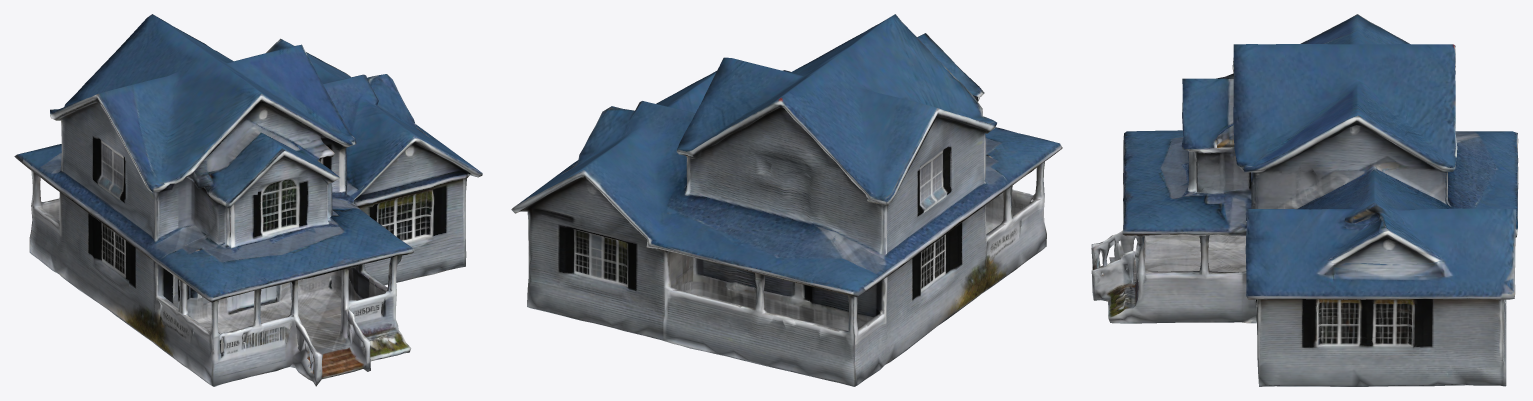
Rendered from house 1.glb.
3 renders of one model, left to right at view 1: azimuth 30°, elevation 25°; view 2: azimuth 150°, elevation 25°; view 3: azimuth 270°, elevation 25°, orthographic. The views are drawn at different scales.
Parts seen in each view (by area): view 1: Mesh_0; view 2: Mesh_0; view 3: Mesh_0.
Part boxes in pixels (box(x1,y1,x2,y2)): Mesh_0: box(14, 14, 482, 386); Mesh_0: box(511, 14, 1062, 386); Mesh_0: box(1091, 14, 1518, 386).
Size of the model in its own units: 1.83 by 1.24 by 2.01.
1 material, 1 textured.
